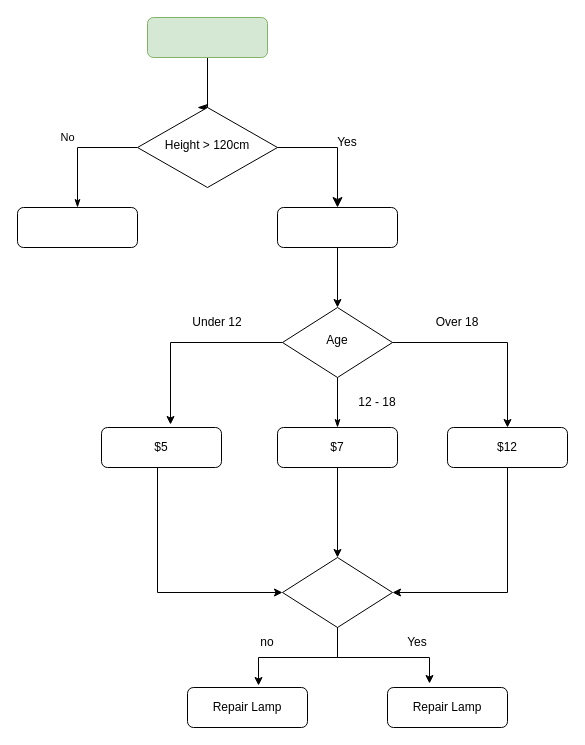
This 585x745 diagram has some shape labels left out. The shapes that lost their labels are listed below. From the top down, each one's centre as x and y in pixels, then its label:
(x=207, y=37): Start
(x=77, y=227): Can't Ride
(x=337, y=227): Can ride
(x=337, y=592): Pic?
